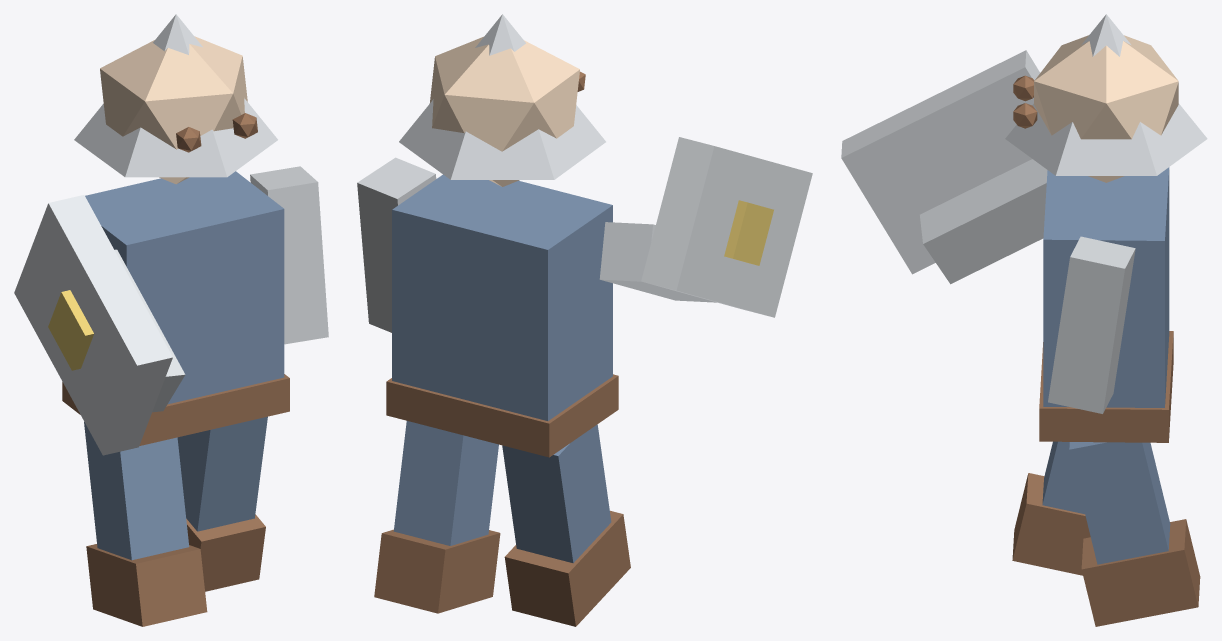
File: npcpose_guard_walk_07.glb
The picture shows the model from 3 angles, left to right: view 1: azimuth 30°, elevation 25°; view 2: azimuth 150°, elevation 25°; view 3: azimuth 270°, elevation 25°; orthographic projection. The views are drawn at different scales.
Parts seen in each view (by area): view 1: npcpose; view 2: npcpose; view 3: npcpose.
Part boxes in pixels (<box>): npcpose: <box>14,14,328,626</box>; npcpose: <box>357,14,812,626</box>; npcpose: <box>841,14,1207,626</box>.
Size of the model in its own units: 0.8837 by 1.57 by 0.9041.
